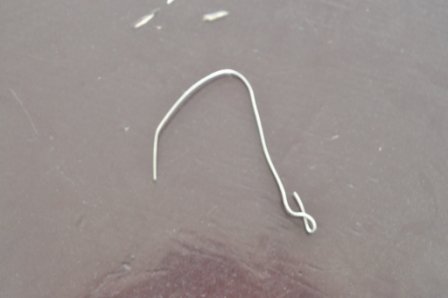thread: (142, 65, 321, 239)
